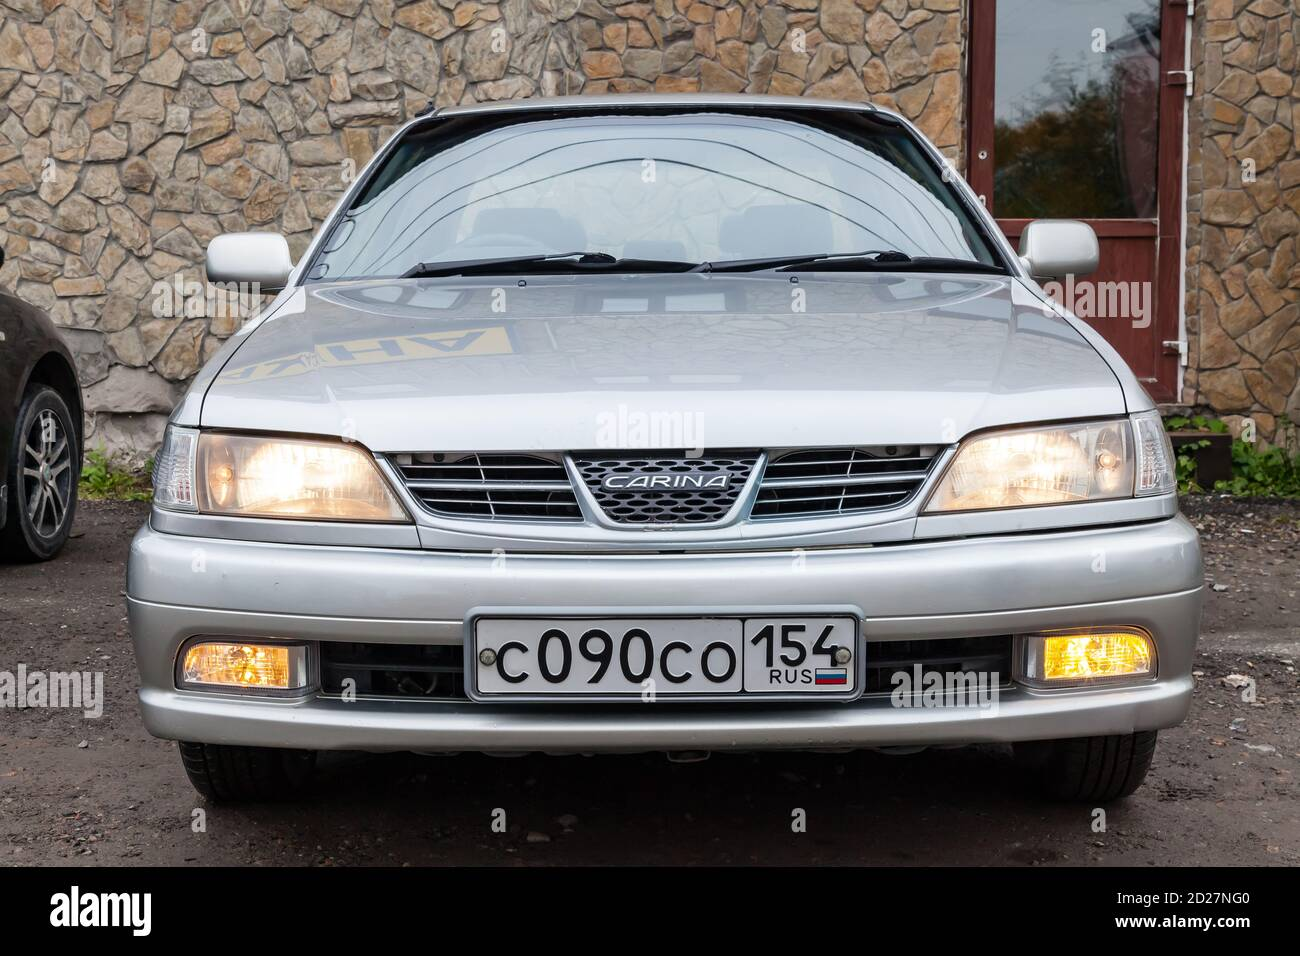car: (116, 93, 1211, 816)
